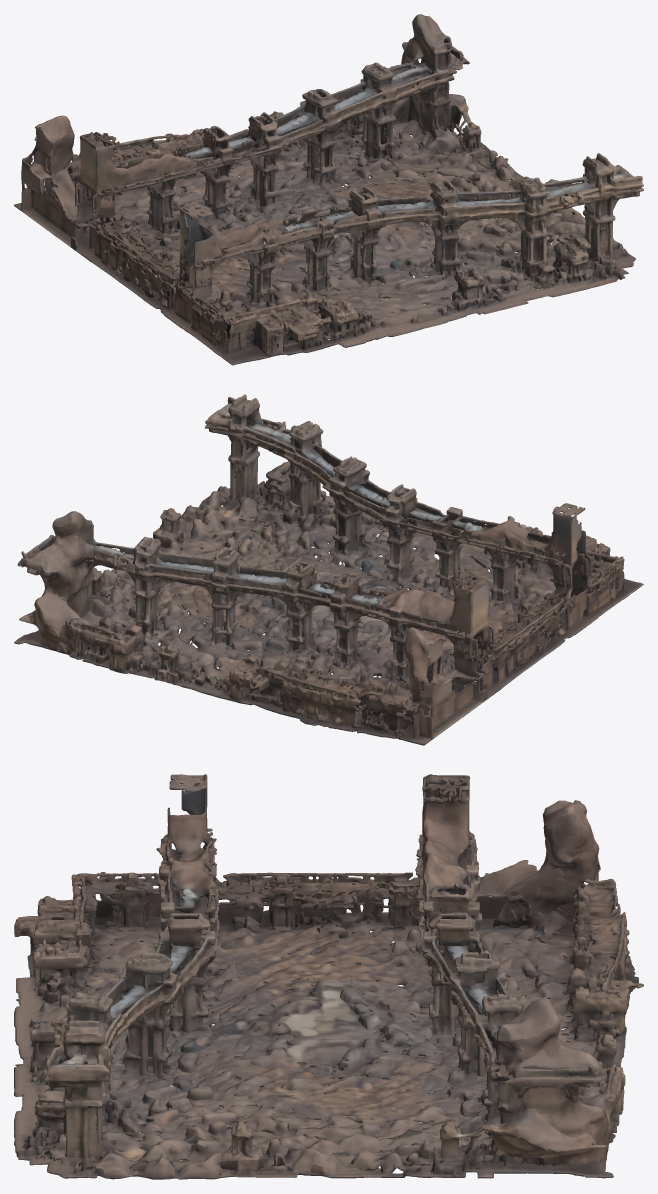
The model's file is aqueduct.glb.
3 renders of one model, top to bottom at view 1: azimuth 30°, elevation 25°; view 2: azimuth 150°, elevation 25°; view 3: azimuth 270°, elevation 25°, orthographic. The views are drawn at different scales.
Parts seen in each view (by area): view 1: world; view 2: world; view 3: world.
Boxes of the visible parts, x1,y1,x2,y2 form: world: (14, 14, 643, 365); world: (14, 394, 643, 745); world: (14, 774, 643, 1179).
Size of the model in its own units: 500 by 139 by 499.
Materials: 1 (1 with a texture image).
